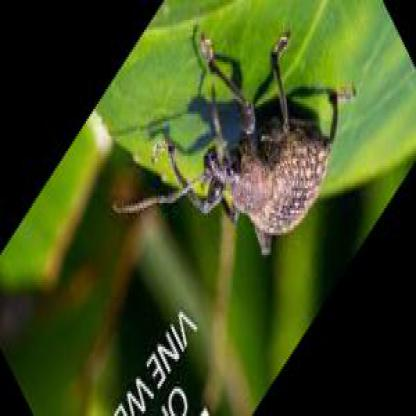ash weevil: (112, 35, 333, 256)
